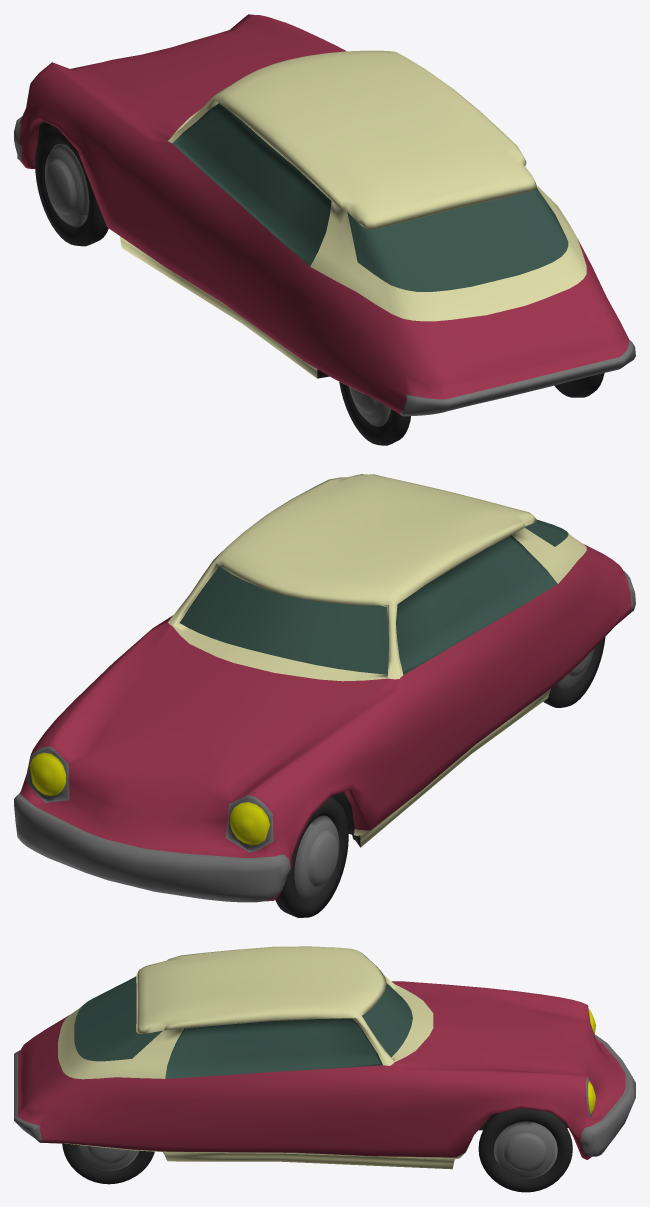
3 views of the same model, one above another, from view 1: azimuth 30°, elevation 25°; view 2: azimuth 150°, elevation 25°; view 3: azimuth 270°, elevation 25° (orthographic). The views are drawn at different scales.
Parts seen in each view (by area): view 1: DS, DS.003, DS.002; view 2: DS, DS.003, DS.002; view 3: DS, DS.003, DS.002.
Boxes of the visible parts, bbox=[...] form: DS: bbox=[14, 14, 635, 416]; DS.003: bbox=[35, 125, 108, 246]; DS.002: bbox=[339, 373, 604, 445]; DS: bbox=[14, 474, 635, 902]; DS.003: bbox=[275, 796, 348, 917]; DS.002: bbox=[543, 637, 605, 707]; DS: bbox=[14, 946, 635, 1169]; DS.003: bbox=[478, 1108, 572, 1192]; DS.002: bbox=[62, 1143, 154, 1184].
Size of the model in its own units: 166 by 133 by 435.
